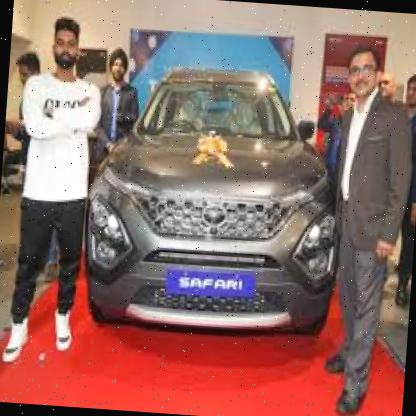car: (78, 60, 353, 347)
person: (308, 39, 416, 416), (0, 10, 111, 375), (81, 38, 148, 150)
